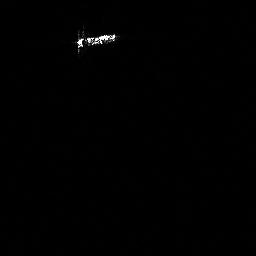ship: (72, 27, 117, 55)
